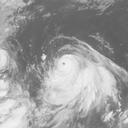cyclone: (54, 52, 88, 86)
